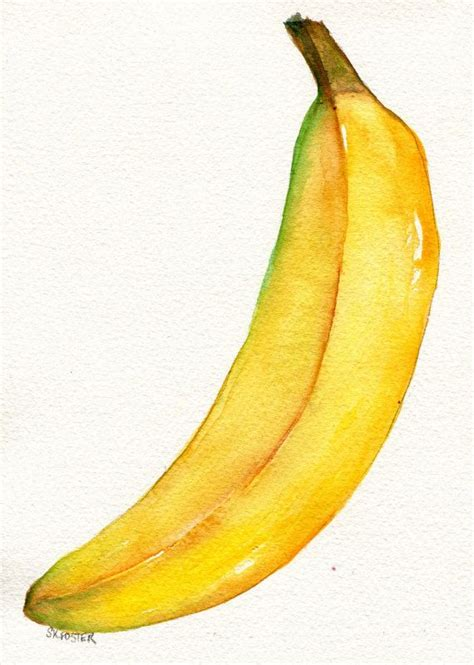banana: (22, 72, 455, 636)
